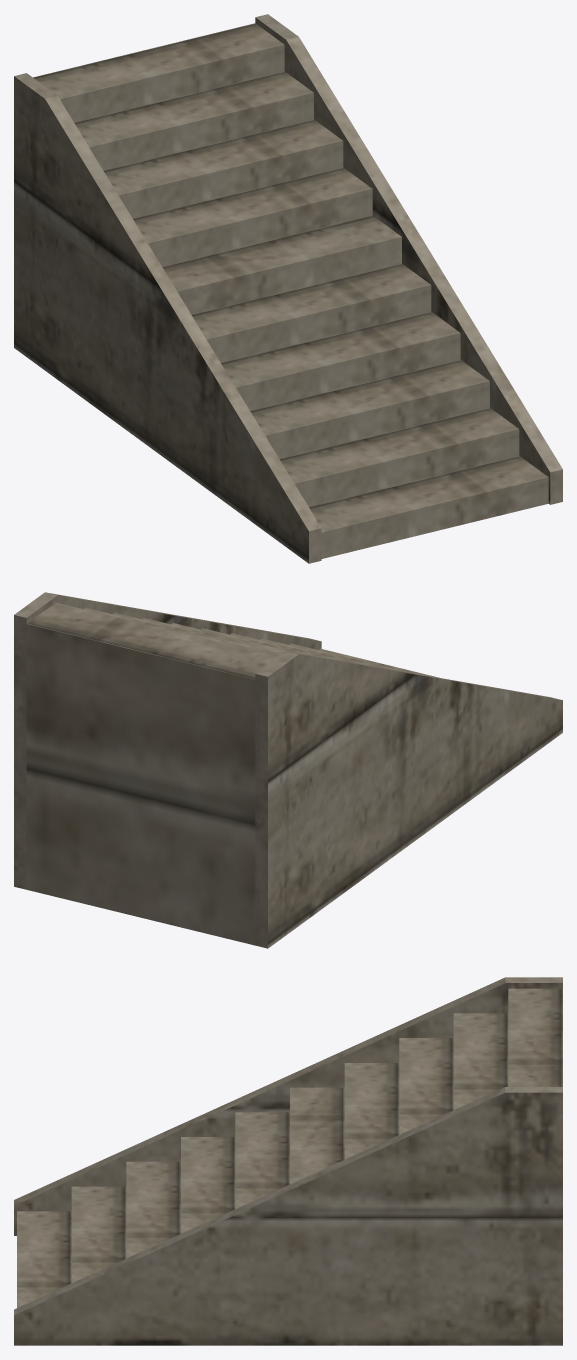
File: MO_BIG_STAIR.fbx
3 renders of one model, top to bottom at view 1: azimuth 30°, elevation 25°; view 2: azimuth 150°, elevation 25°; view 3: azimuth 270°, elevation 25°, orthographic. The views are drawn at different scales.
Parts seen in each view (by area): view 1: MO_BIG_STAIR; view 2: MO_BIG_STAIR; view 3: MO_BIG_STAIR.
Boxes of the visible parts, <box> form: MO_BIG_STAIR: <box>14,14,562,563</box>; MO_BIG_STAIR: <box>14,592,562,948</box>; MO_BIG_STAIR: <box>14,977,562,1345</box>.
Size of the model in its own units: 2 by 2.04 by 4.02.
